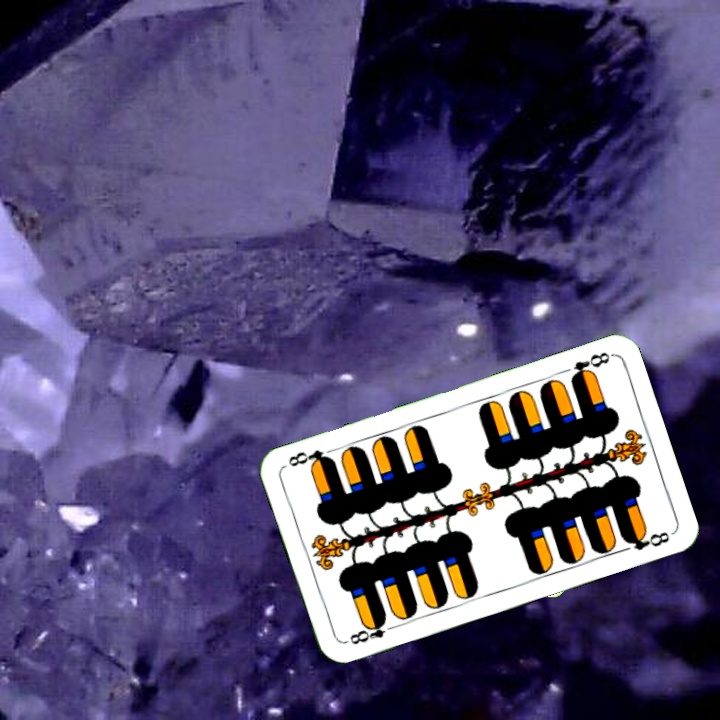E8: (345, 614, 399, 647), (566, 348, 614, 384)
